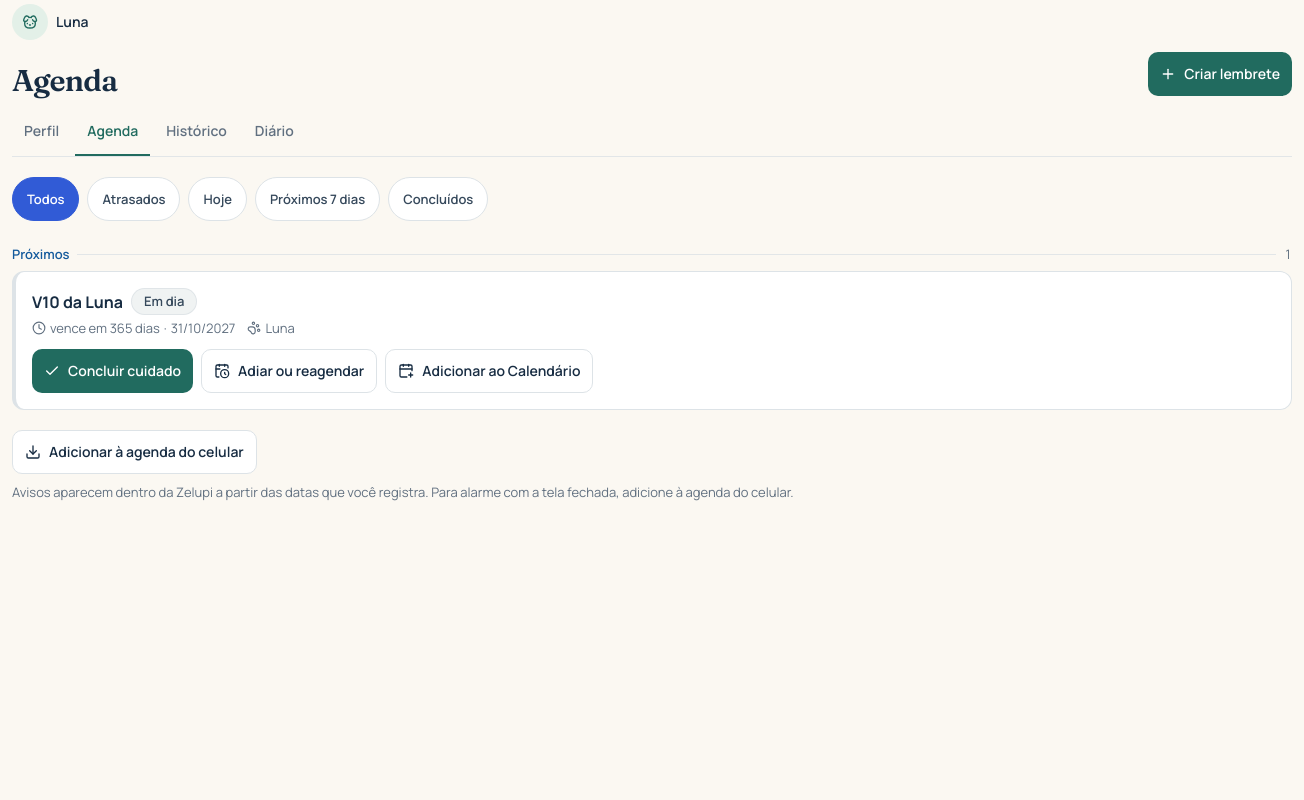
Test: agenda › mostra cuidados de saúde concluídos junto com lembretes manuais
The image size is (1304, 800).
Click the button "Concluídos". click: (438, 199)
box: [388,177,488,221]
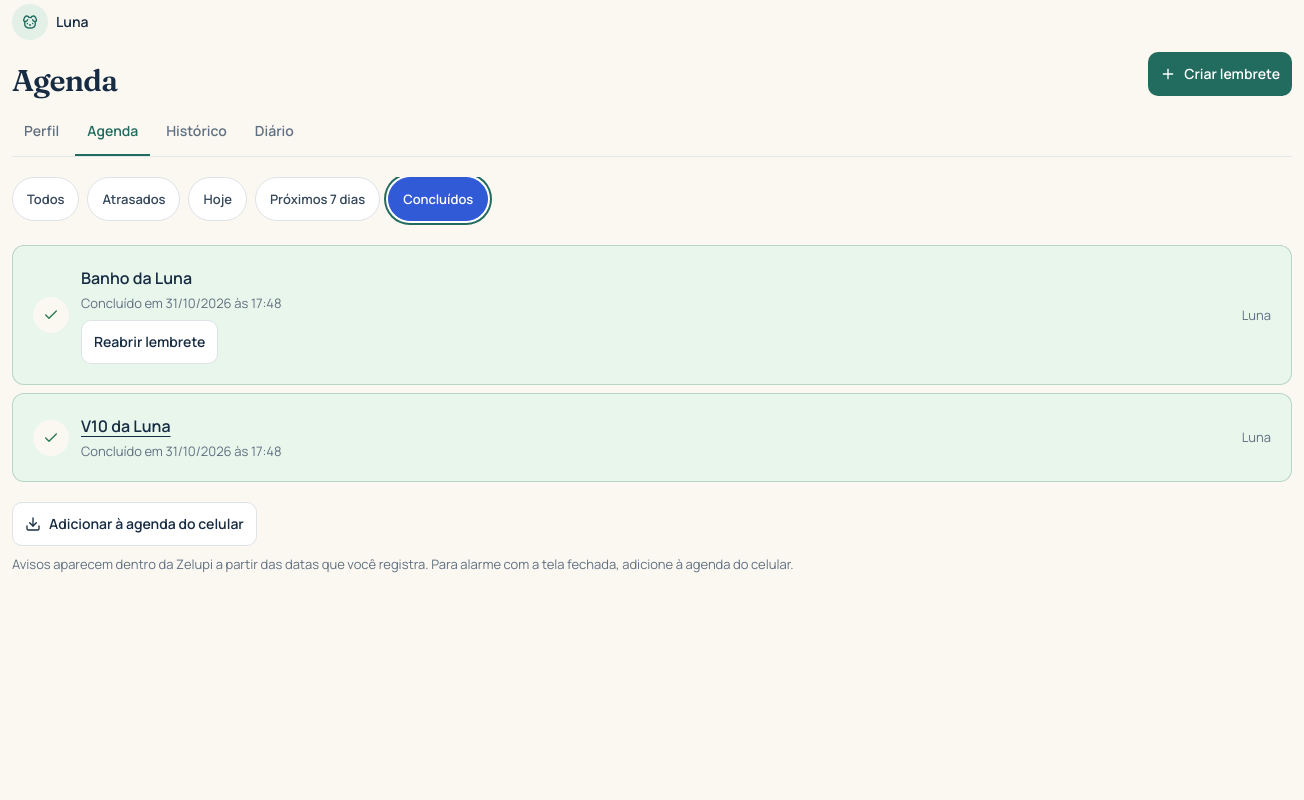
Expected: the link "V10 da Luna" is shown, [81,415,170,437]
Expected: the text "Banho da Luna" is shown, [81,267,192,289]
Expected: the text "Concluído em 31/10/2026 às 17:48" is shown 2 times, [81,294,282,312]; [81,442,282,460]
